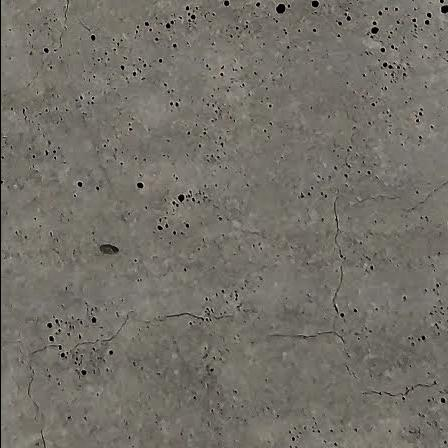crack: (0, 228, 239, 448), (254, 193, 358, 389), (23, 0, 77, 98), (396, 178, 448, 218), (358, 380, 447, 401)
